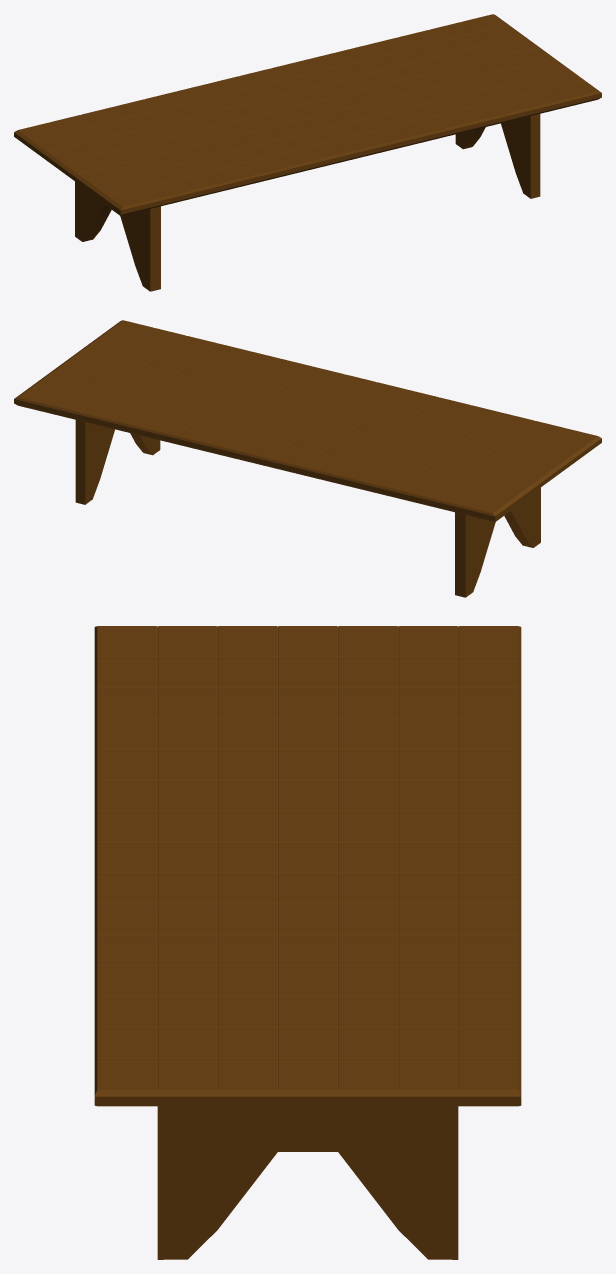
File: Table.fbx
3 views of the same model, one above another, from view 1: azimuth 30°, elevation 25°; view 2: azimuth 150°, elevation 25°; view 3: azimuth 270°, elevation 25° (orthographic). The views are drawn at different scales.
Visible parts, largest first — view 1: Table; view 2: Table; view 3: Table.
Part boxes in pixels (x1,y1,x2,y2): Table: [14, 14, 601, 291]; Table: [14, 320, 601, 597]; Table: [94, 626, 521, 1259].
Size of the model in its own units: 825 by 173 by 317.
